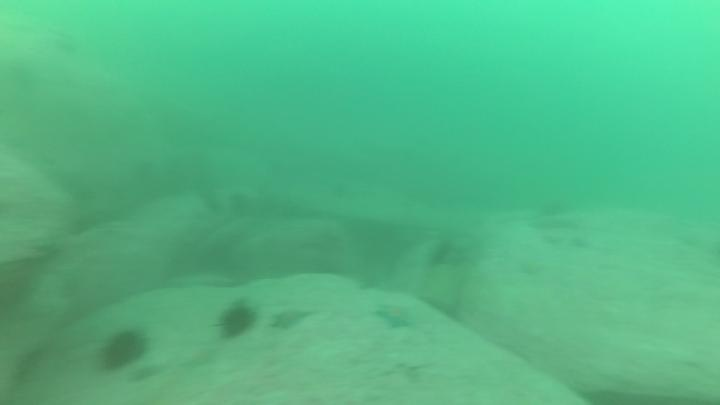echinus: (96, 325, 151, 374), (213, 298, 260, 344)
starfish: (265, 303, 320, 335), (371, 300, 419, 334), (176, 340, 222, 373)
